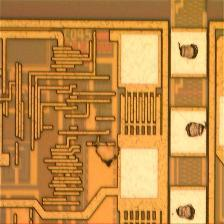PARTICLE: (93, 40, 209, 224)
